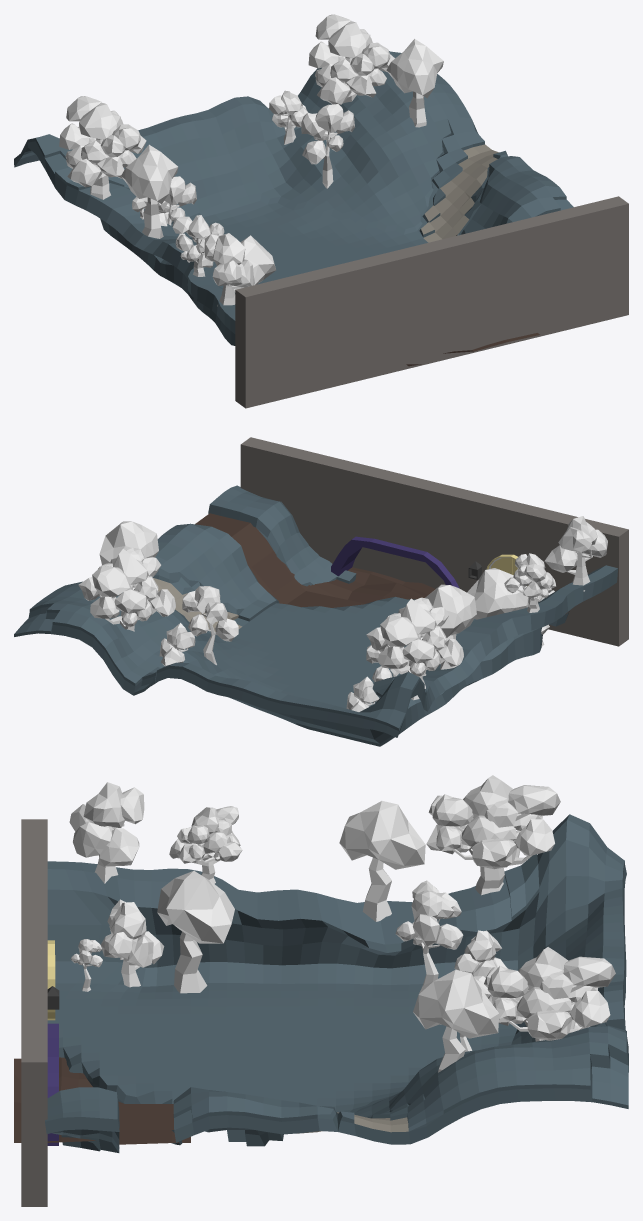
Rendered from CENA4- CENAFLORESTA-2002.fbx.
The picture shows the model from 3 angles, top to bottom: view 1: azimuth 30°, elevation 25°; view 2: azimuth 150°, elevation 25°; view 3: azimuth 270°, elevation 25°; orthographic projection. The views are drawn at different scales.
Parts seen in each view (by area): view 1: Ground, Wall, Tree.003, Tree.013, Tree.010, Tree.014, Tree.011, Tree.001, Tree.002, Tree.012, Tree.008, Tree.009; view 2: Ground, Wall, Water, Tree.013, Tree.003, Tree.001, Tree.011, Tree.009, Tree.010, Tree.002, Tree.014, Tree.012 (+3 smaller); view 3: Ground, Wall, Tree.003, Tree.013, Tree.009, Tree.010, Tree.001, Tree.014, Water, Tree.002, Tree.007, Tree.008 (+2 smaller).
Boxes of the visible parts, x1,y1,x2,y2 form: Ground: (14,51,573,345); Wall: (235,196,628,408); Tree.003: (59,96,146,199); Tree.013: (308,14,394,104); Tree.010: (121,144,178,238); Tree.014: (386,39,443,127); Tree.011: (301,104,354,188); Tree.001: (204,233,254,306); Tree.002: (172,215,224,276); Tree.012: (269,90,308,144); Tree.008: (158,176,196,226); Tree.009: (235,235,275,292); Ground: (14,485,617,746); Wall: (240,437,628,646); Water: (195,513,435,607); Tree.013: (78,547,175,631); Tree.003: (366,597,463,700); Tree.001: (544,516,607,591); Tree.011: (182,586,238,665); Tree.009: (467,568,528,619); Tree.010: (425,584,476,669); Tree.002: (504,553,555,612); Tree.014: (99,521,158,565); Tree.012: (159,623,195,666); Ground: (45,814,628,1152); Wall: (21,819,58,1206); Tree.003: (426,775,560,895); Tree.013: (484,947,615,1041); Tree.009: (157,870,234,993); Tree.010: (339,801,425,921); Tree.001: (69,782,144,883); Tree.014: (413,969,499,1072); Water: (14,1057,190,1144); Tree.002: (169,806,242,883); Tree.007: (100,899,164,987); Tree.008: (395,890,463,985).
Bounding box in the file's own units: 8684 × 3561 × 9007.
